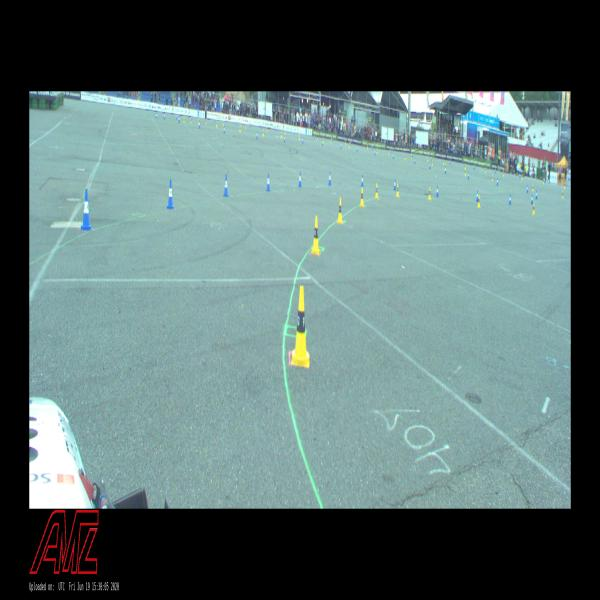blue_cone: (81, 190, 91, 230), (167, 180, 174, 209), (224, 175, 228, 197), (266, 174, 270, 191), (298, 172, 301, 187), (328, 172, 331, 185), (361, 174, 363, 187), (476, 190, 478, 202), (436, 185, 438, 196), (509, 194, 511, 205), (394, 179, 396, 189), (531, 194, 533, 204), (256, 131, 258, 139), (496, 178, 498, 186), (178, 116, 180, 123), (414, 157, 416, 164), (302, 138, 304, 144), (392, 153, 394, 159), (374, 149, 376, 155), (340, 143, 342, 148), (356, 146, 358, 151), (536, 190, 537, 199), (468, 172, 469, 180), (527, 185, 528, 193), (224, 126, 225, 134), (284, 135, 285, 143), (445, 166, 446, 174), (429, 162, 430, 169), (164, 113, 165, 119), (321, 140, 322, 146)
yellow_cone: (291, 286, 310, 368), (312, 216, 320, 255), (337, 198, 343, 224), (360, 188, 364, 208), (375, 183, 378, 199), (396, 183, 399, 197), (428, 187, 431, 200), (477, 196, 480, 207), (532, 204, 535, 214), (262, 129, 264, 136), (198, 118, 200, 125), (239, 126, 241, 132), (431, 160, 433, 166), (464, 169, 466, 175), (491, 175, 493, 181), (376, 148, 378, 153), (222, 121, 224, 126), (562, 190, 563, 198), (190, 119, 192, 123), (388, 150, 390, 154), (216, 120, 217, 127), (532, 184, 533, 191), (281, 132, 282, 138), (404, 154, 405, 160), (443, 159, 444, 165), (299, 134, 300, 140), (349, 142, 350, 148), (427, 157, 428, 162), (316, 136, 317, 141), (485, 168, 486, 172)
